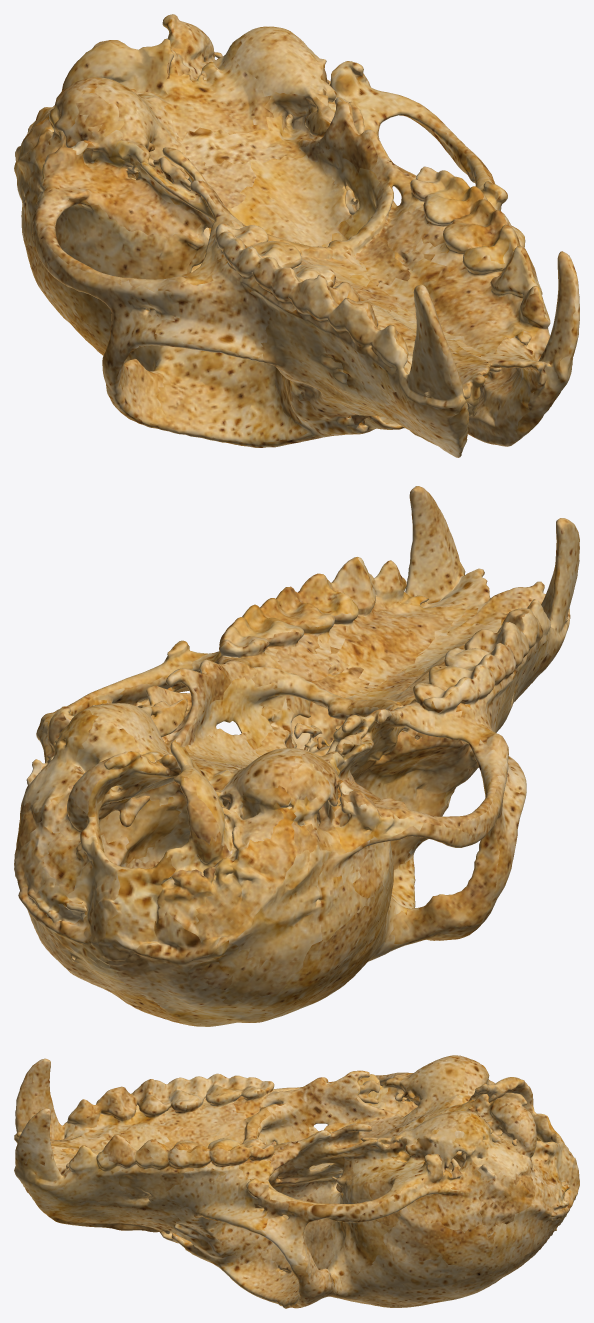
File: ruffed-lemur-cranium-1k-v01-textured-v02.glb
3 renders of one model, top to bottom at view 1: azimuth 30°, elevation 25°; view 2: azimuth 150°, elevation 25°; view 3: azimuth 270°, elevation 25°, orthographic. The views are drawn at different scales.
Parts seen in each view (by area): view 1: Mesh_0; view 2: Mesh_0; view 3: Mesh_0.
Boxes of the visible parts, x1,y1,x2,y2 form: Mesh_0: [14, 14, 579, 457]; Mesh_0: [14, 486, 579, 1026]; Mesh_0: [14, 1055, 579, 1308].
Size of the model in its own units: 57.6 by 41.01 by 98.44.
1 material, 1 textured.
